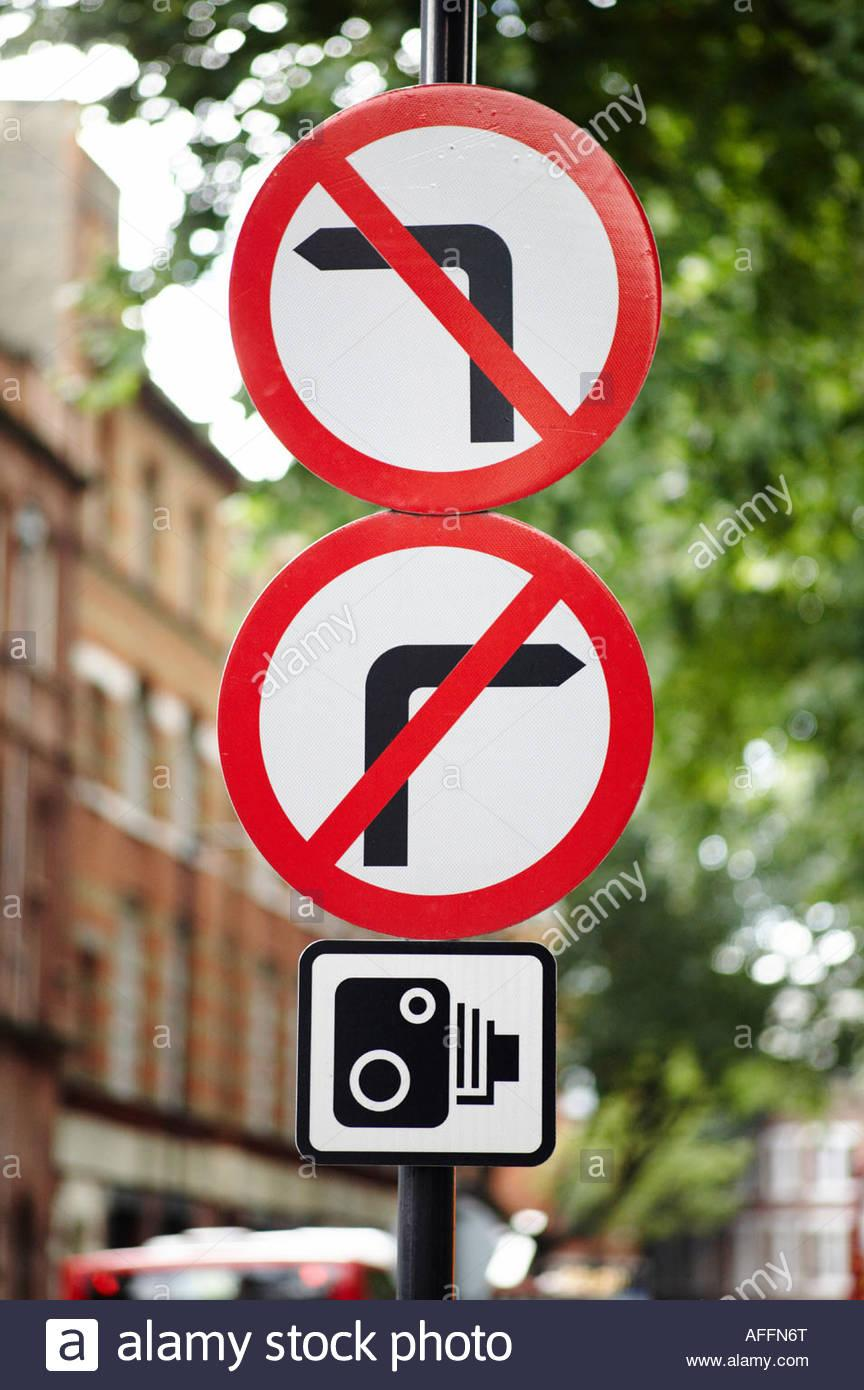no_left_turn: (227, 82, 660, 517)
no_right_turn: (218, 513, 652, 940)
